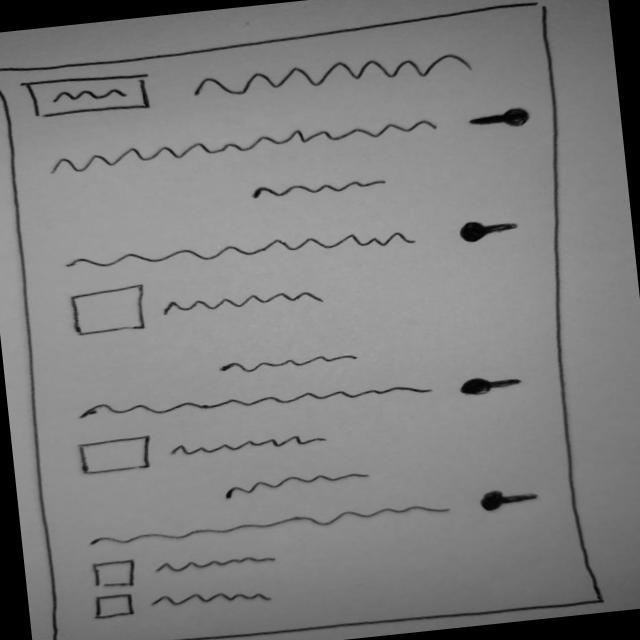checkbox: (66, 262, 332, 339), (79, 415, 333, 481), (88, 543, 284, 593), (90, 575, 285, 624)
input: (16, 66, 164, 128)
text: (46, 113, 444, 179), (80, 363, 443, 435), (68, 217, 423, 285), (86, 496, 457, 555), (191, 43, 486, 109), (219, 466, 376, 505), (244, 169, 403, 207), (214, 345, 368, 382)
toggle: (453, 212, 529, 248), (470, 482, 547, 517), (465, 102, 537, 137), (456, 371, 533, 401)
